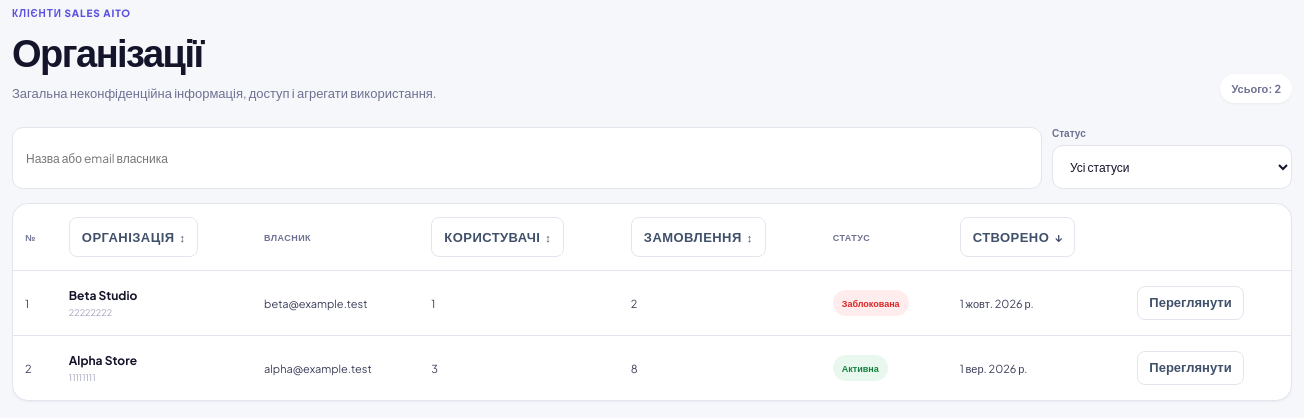
Test case: AdminTenantsTable › searches and filters privacy-safe client rows
The image size is (1304, 418).
Expected: the number of rows is 3, x1=13 y1=204 x2=1291 y2=271; x1=13 y1=271 x2=1291 y2=336; x1=13 y1=336 x2=1291 y2=400
Type "beta" into the search field with placeholder "Назва або email власника". click: (527,158)
box: x1=12 y1=127 x2=1042 y2=189
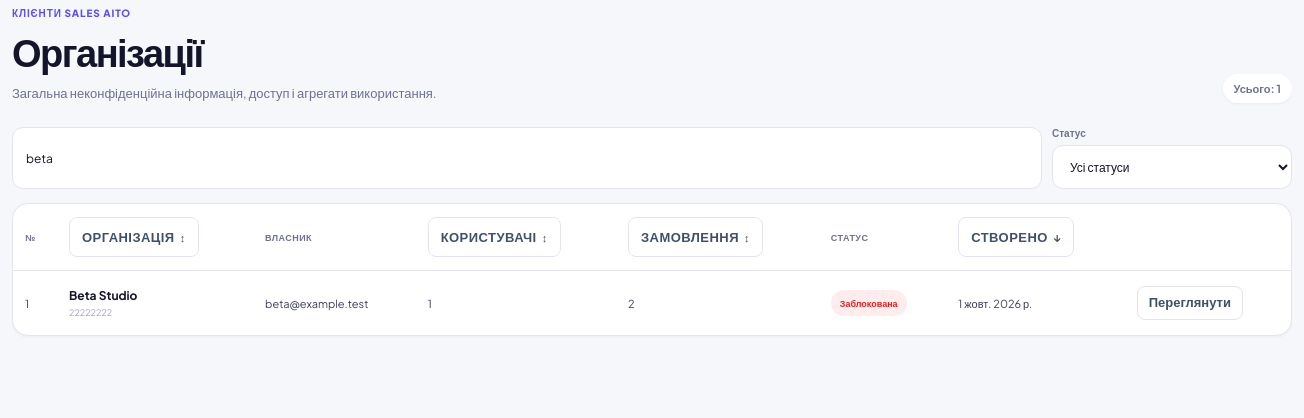
Expected: the text "Beta Studio" is shown, x1=69 y1=288 x2=137 y2=303
Expected: the text "Alpha Store" is gone
Select "Активна" in the dropdown labelled "Статус". click: (1172,167)
box: x1=1052 y1=145 x2=1292 y2=189
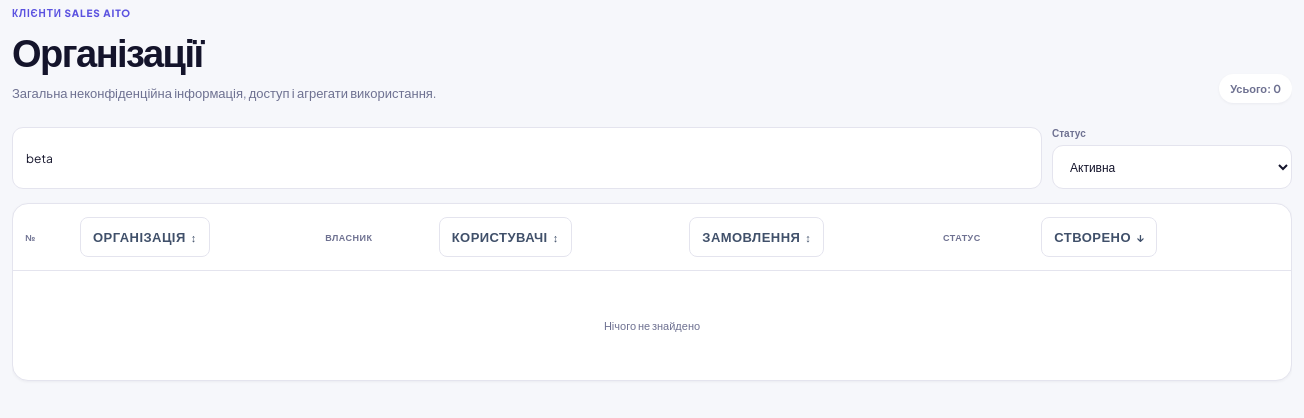
Expected: the text "Нічого не знайдено" is shown, x1=13 y1=271 x2=1291 y2=380
